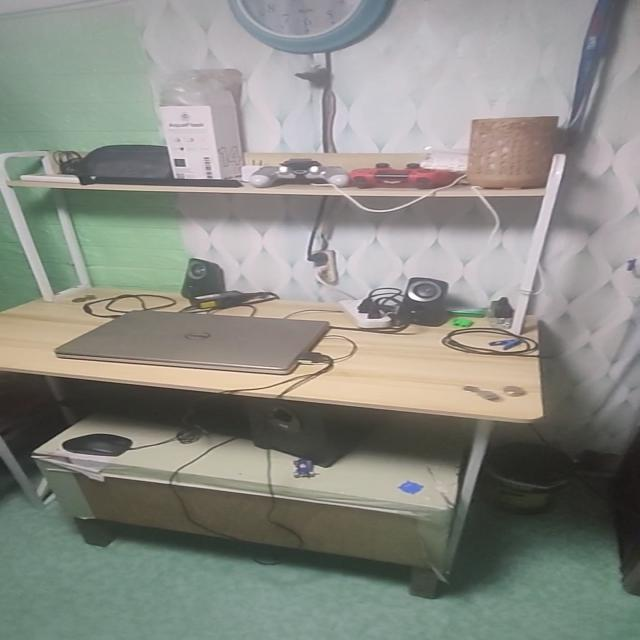table: (0, 281, 549, 609)
